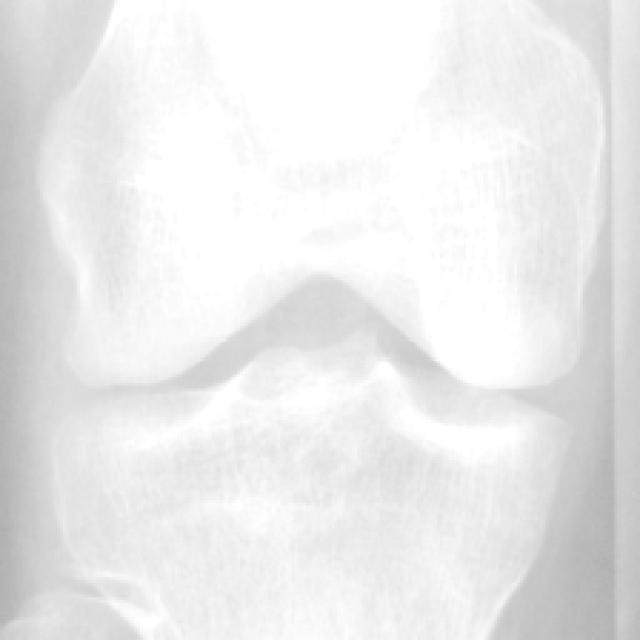femur: (38, 0, 606, 388)
tibia: (52, 324, 564, 640)
